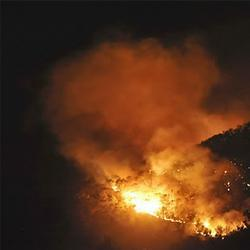fire: (123, 190, 164, 217)
smoke: (69, 58, 184, 129)
